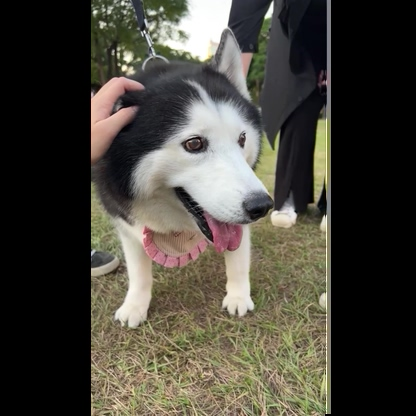husky: (100, 23, 281, 334)
